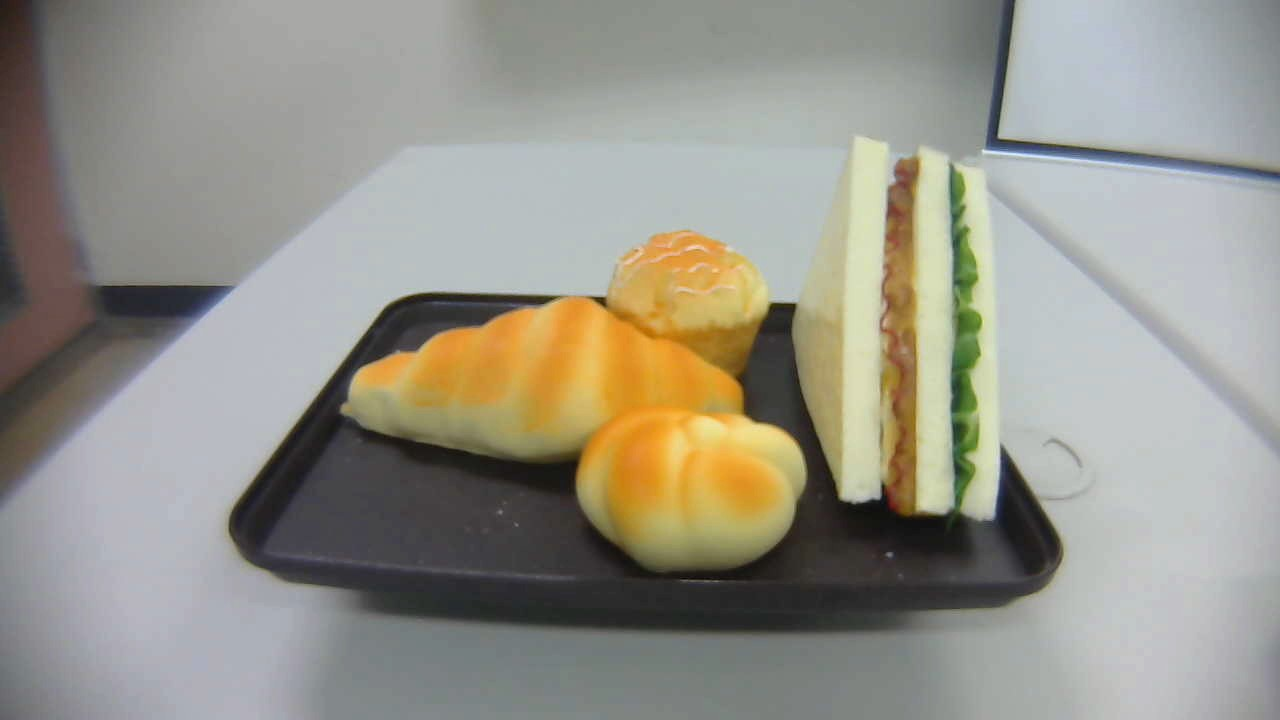croissant: (340, 297, 744, 468)
cupcake: (606, 229, 769, 382)
sandwich: (790, 133, 1001, 523)
twist bread: (574, 410, 809, 572)
